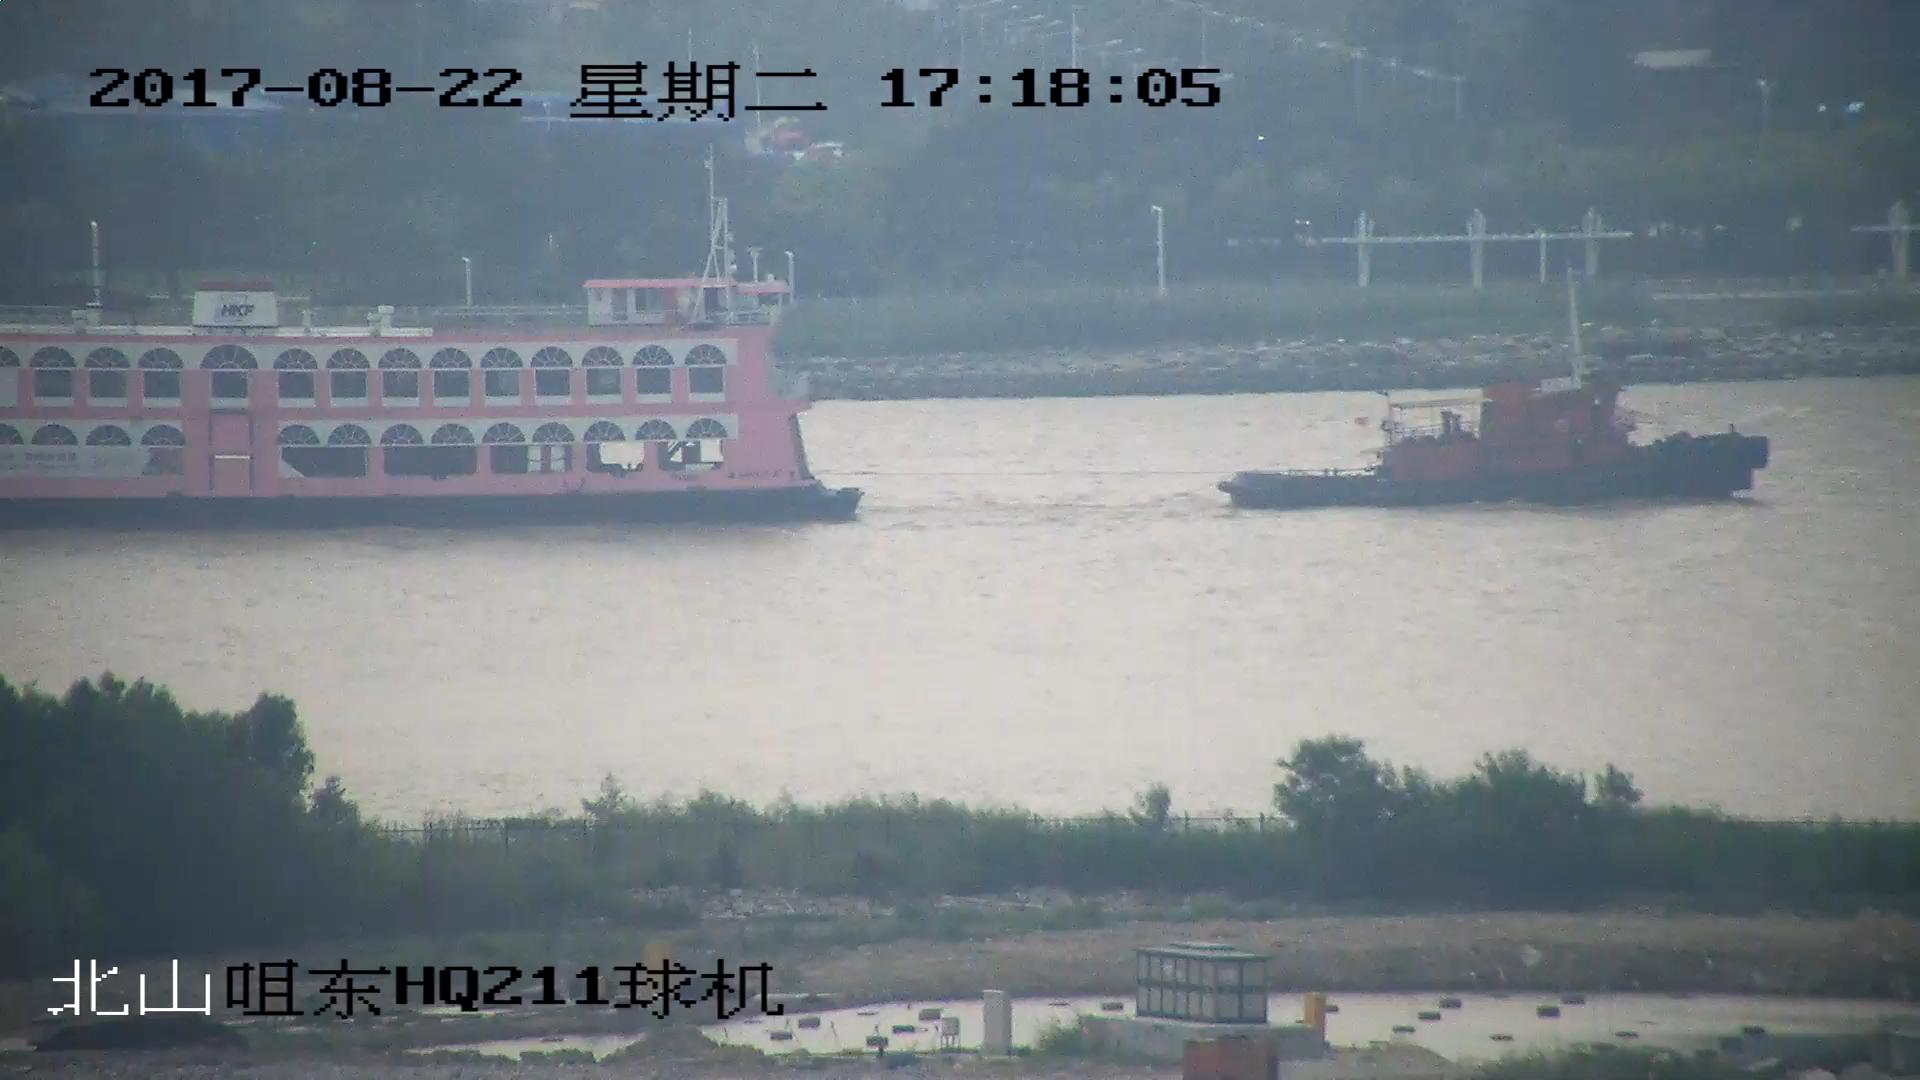fishing boat: (1218, 269, 1772, 507)
passenger ship: (1, 149, 866, 527)
